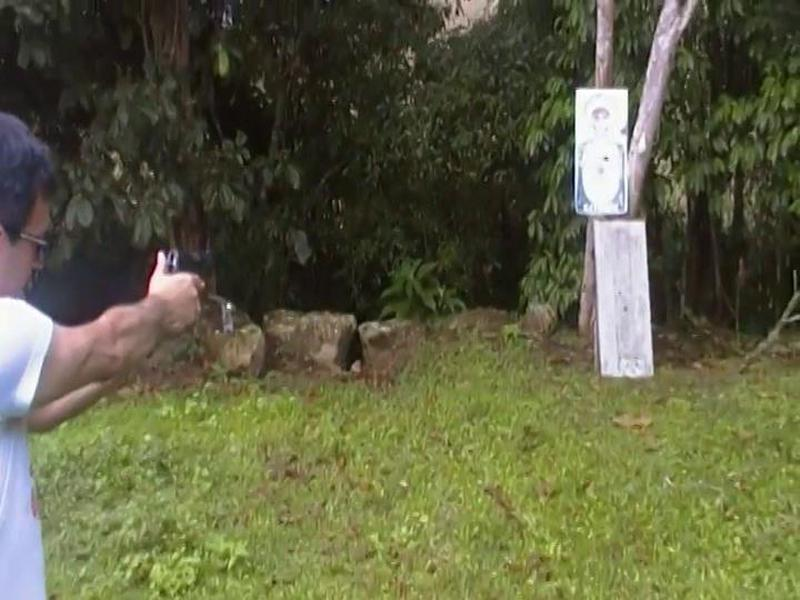Pistola: (151, 235, 238, 305)
